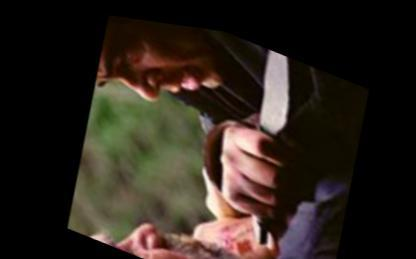knife: (216, 31, 315, 190)
